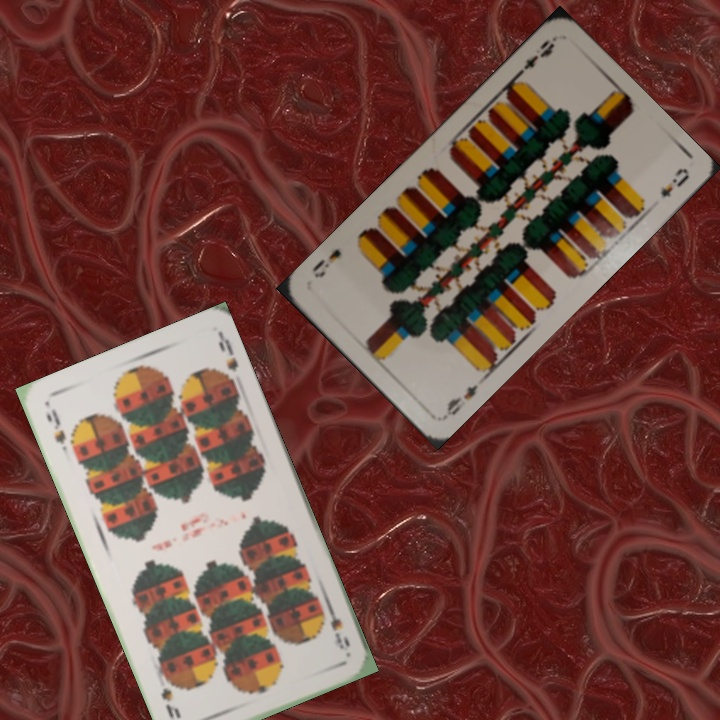E9: (510, 35, 557, 81), (439, 380, 481, 421)
S9: (322, 599, 353, 652), (42, 405, 69, 447)
